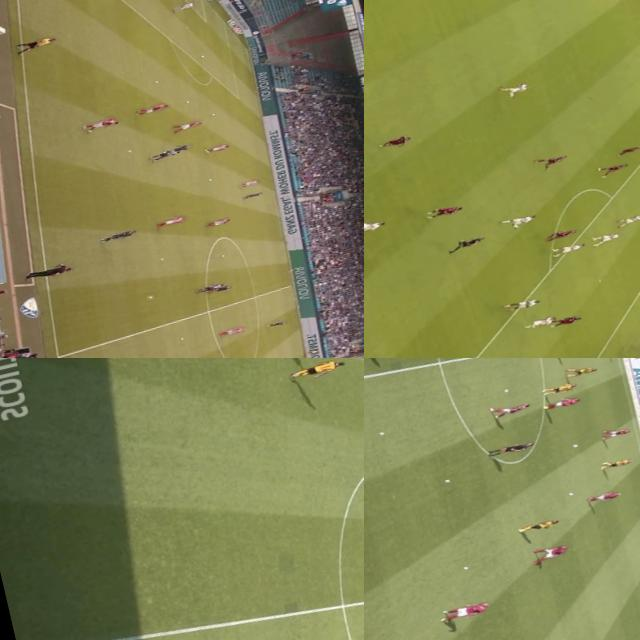ball: (443, 476, 453, 484), (460, 564, 469, 571), (374, 430, 384, 436), (570, 442, 578, 448), (502, 388, 511, 393), (148, 294, 154, 300), (565, 492, 573, 496), (198, 54, 204, 58), (210, 112, 216, 116), (126, 148, 132, 152), (220, 253, 226, 257), (206, 178, 212, 182), (158, 257, 164, 260), (178, 337, 184, 340), (153, 80, 158, 82), (187, 100, 190, 102)
player: (439, 598, 492, 622), (488, 396, 534, 421), (291, 358, 344, 378), (543, 309, 587, 330), (502, 210, 540, 232), (515, 518, 560, 536), (538, 394, 582, 411), (423, 201, 462, 219), (594, 160, 629, 178), (364, 212, 389, 237), (506, 294, 540, 312), (496, 80, 530, 98), (535, 153, 570, 170), (533, 544, 566, 562), (592, 228, 624, 246), (540, 380, 576, 396), (378, 133, 413, 149), (83, 117, 118, 132), (553, 241, 586, 256), (97, 230, 135, 243), (524, 314, 556, 329), (566, 362, 596, 378), (134, 102, 168, 116), (168, 118, 202, 132), (586, 490, 618, 504), (546, 228, 576, 242), (598, 456, 630, 469), (154, 215, 184, 228), (602, 425, 628, 439), (200, 142, 228, 154), (616, 144, 640, 156), (218, 327, 244, 338), (621, 212, 640, 227), (171, 2, 196, 13), (164, 144, 190, 154), (207, 216, 229, 227), (153, 151, 177, 160), (197, 284, 220, 292), (208, 284, 230, 292), (266, 319, 284, 328), (244, 191, 264, 199), (240, 178, 258, 186)
